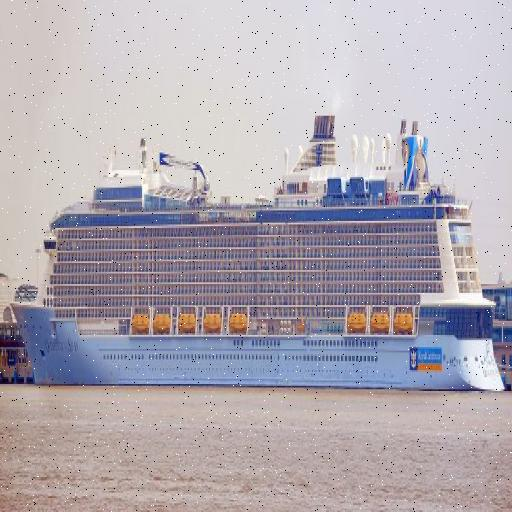cruises: (8, 104, 512, 401)
